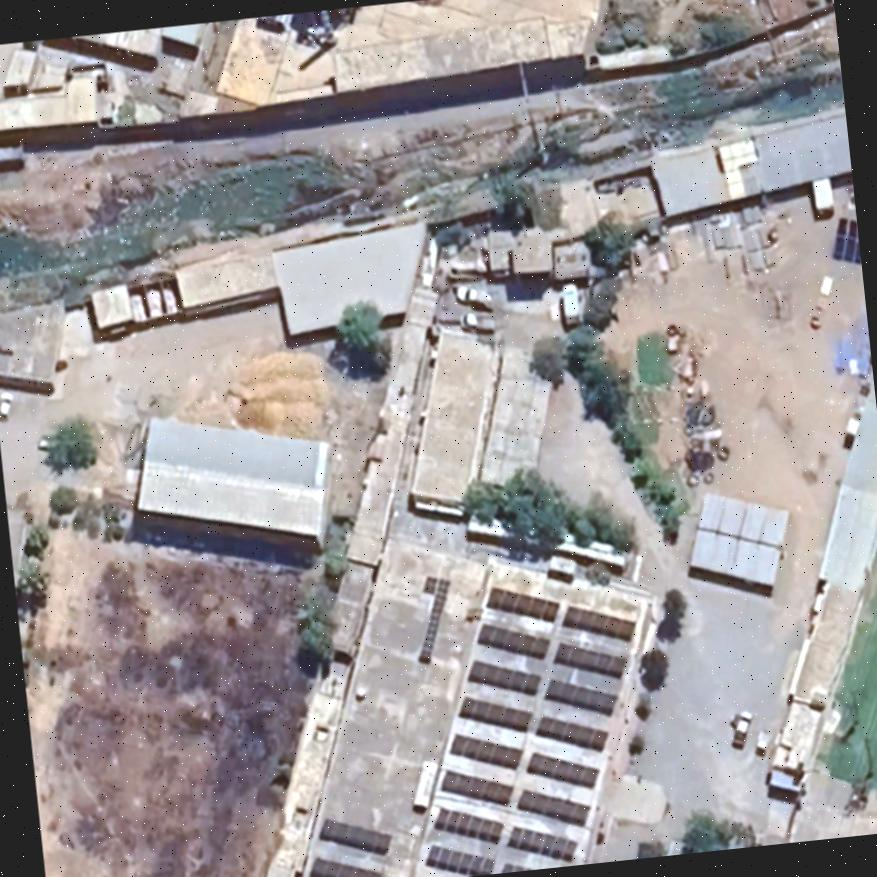Solarpanel: (450, 688, 613, 759), (439, 731, 608, 797), (460, 656, 626, 723), (426, 767, 594, 830), (473, 584, 640, 647), (465, 623, 631, 685), (432, 804, 583, 864), (415, 840, 542, 876), (309, 815, 396, 858), (303, 851, 389, 877)
